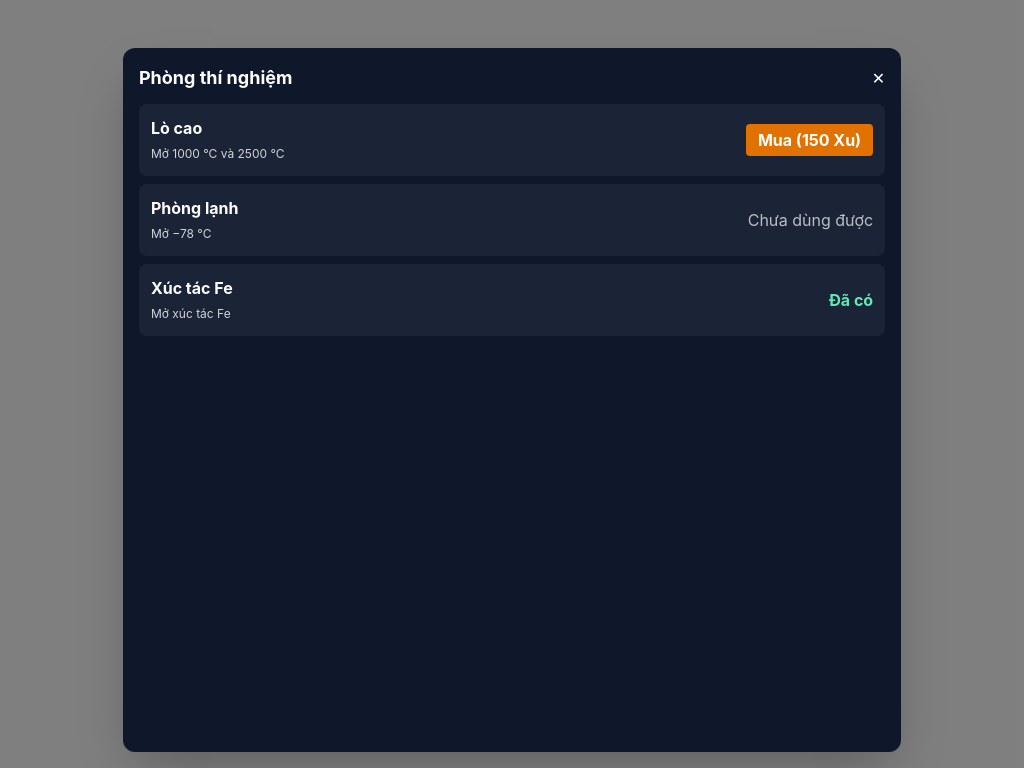
Test: refusal INSUFFICIENT_COINS shows its text
Click the button "Mua (150 Xu)": (810, 140) [746,124,873,156]
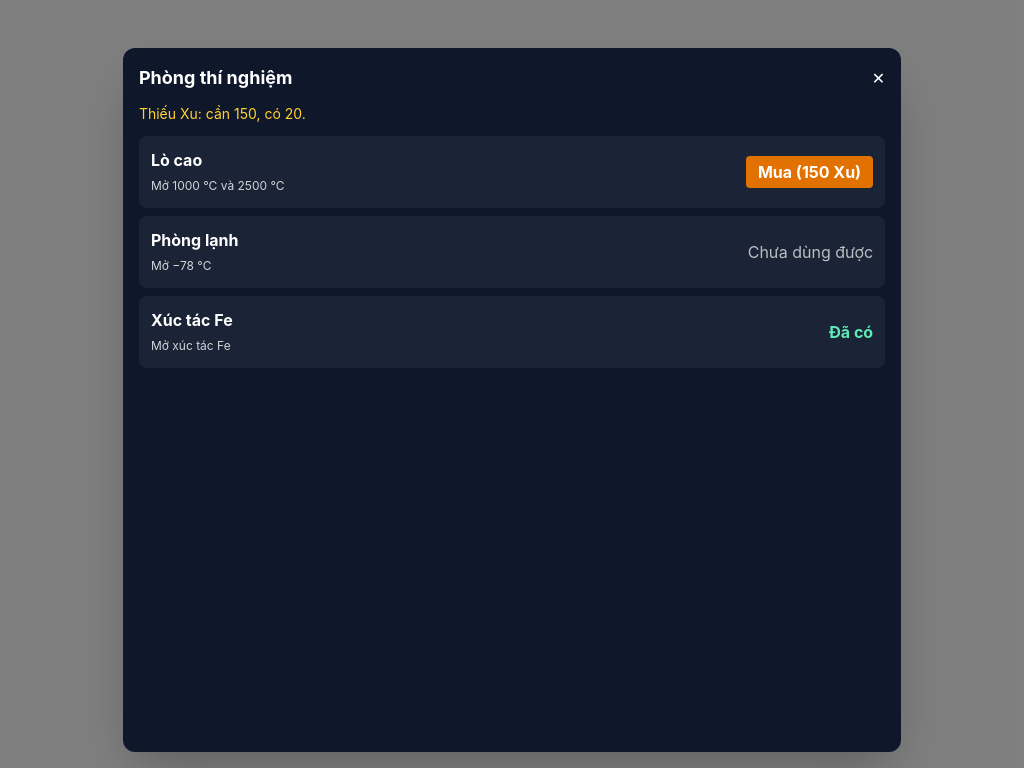
Check: the message reads "Thiếu Xu: cần 150, có 20.", box [139,105,306,122]
